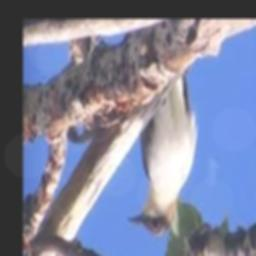Cuckoo: (125, 73, 197, 235)
